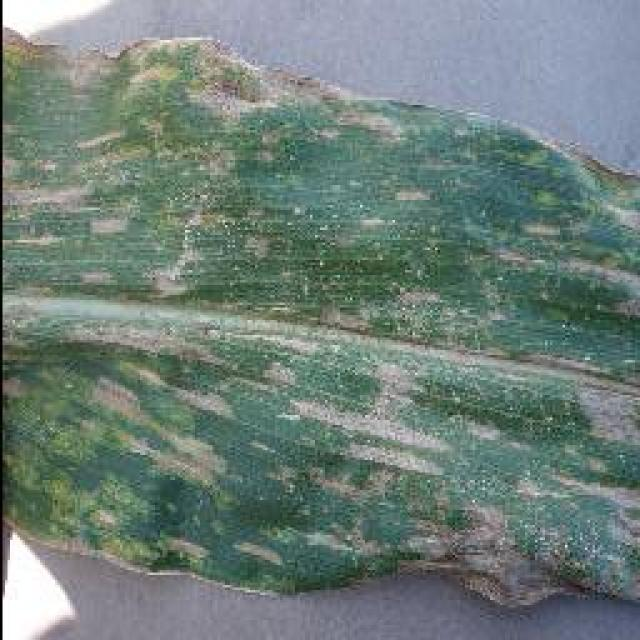Corn_Grey_Leaf_Spot: (0, 100, 605, 558)
